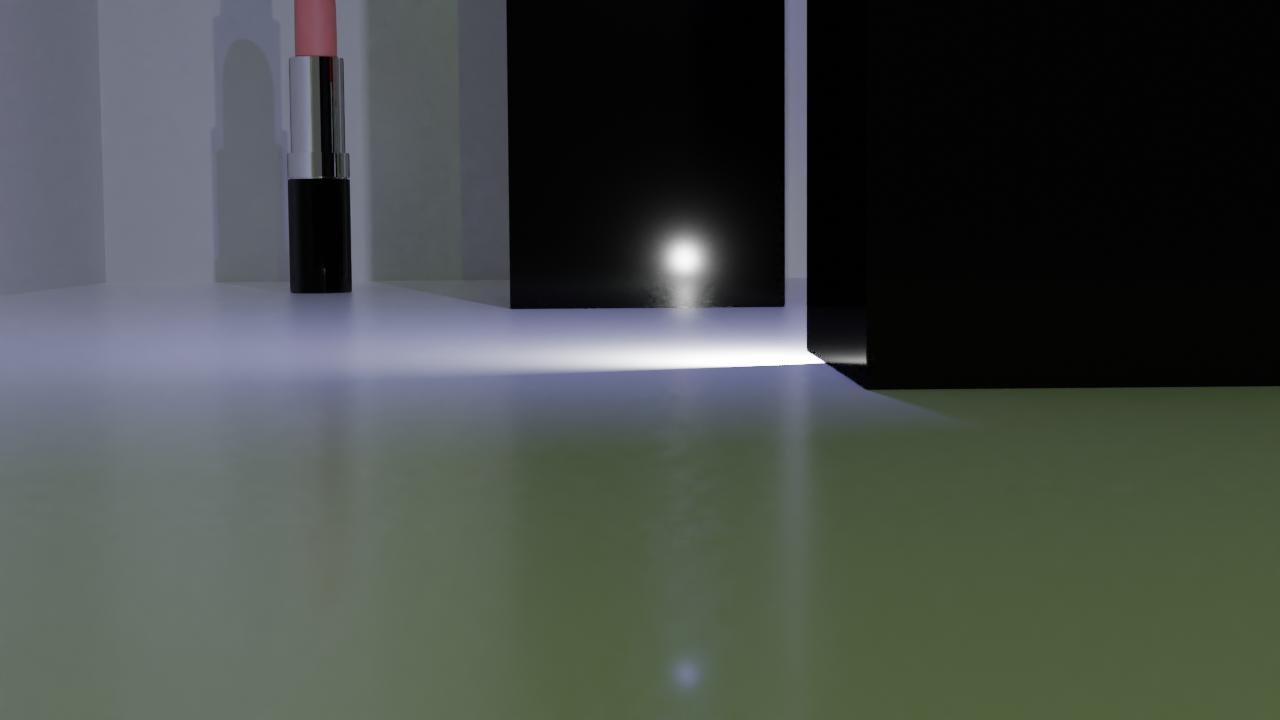CLASSIFIER_NAME: (286, 0, 354, 293)
